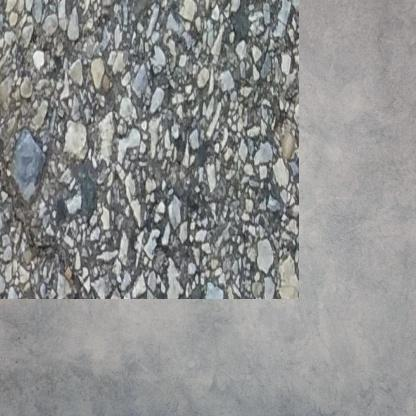Cracks: (0, 129, 88, 276), (256, 272, 266, 277)
